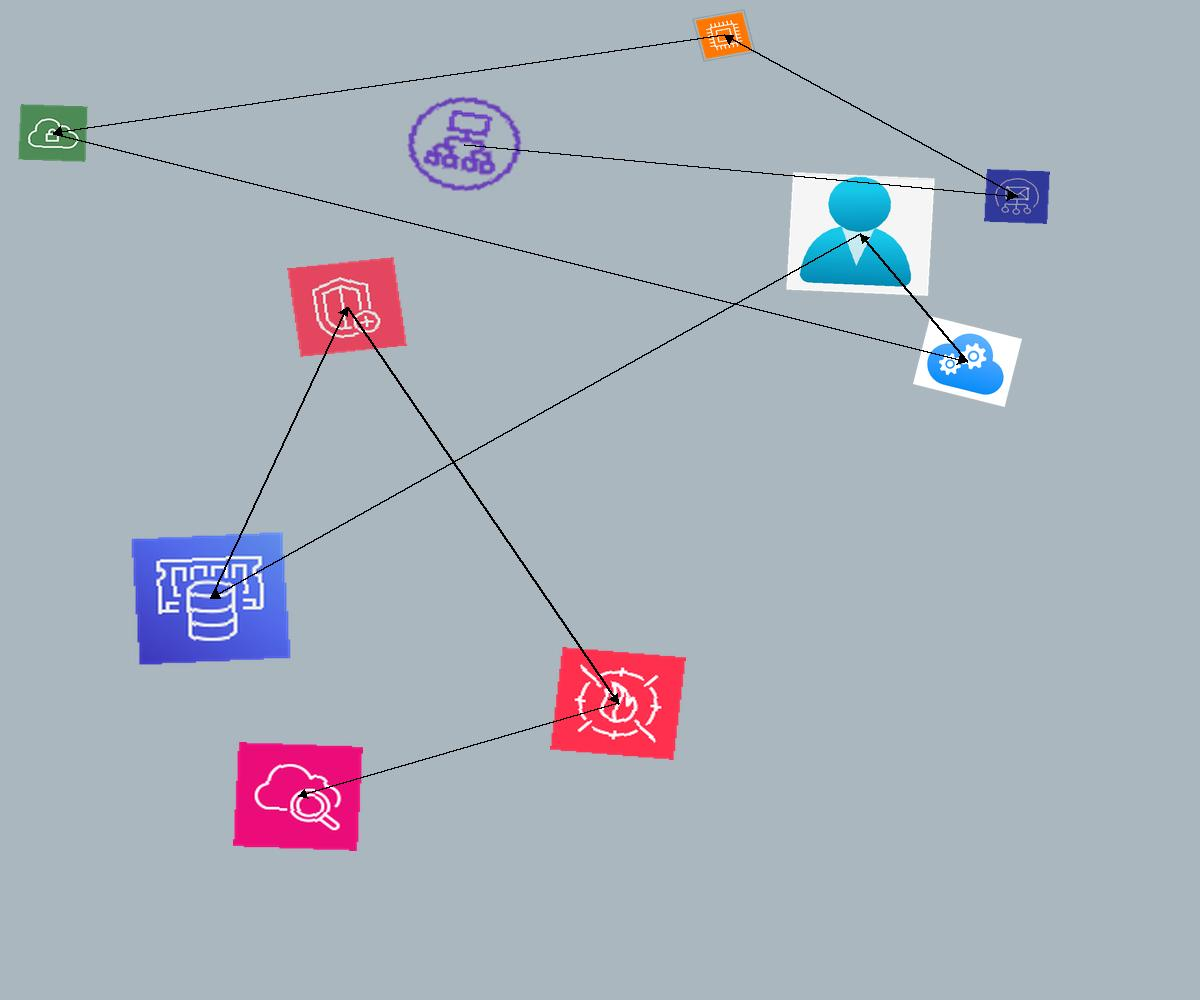AWS-Category_Compute: (692, 9, 756, 62)
AWS-CloudWatch: (233, 742, 363, 851)
AWS-ElastiCache: (130, 531, 292, 666)
AWS-Private_vpc: (18, 104, 88, 162)
AWS-Res_Elastic-Load-Balancing_Application-Load-Balancer: (391, 83, 538, 205)
AWS-Shield: (287, 257, 407, 357)
AWS-Simple-Email-Service: (984, 169, 1050, 224)
AWS-WAF: (550, 647, 686, 760)
Azure_cloud_services: (913, 316, 1022, 407)
Azure_users: (786, 172, 935, 296)
